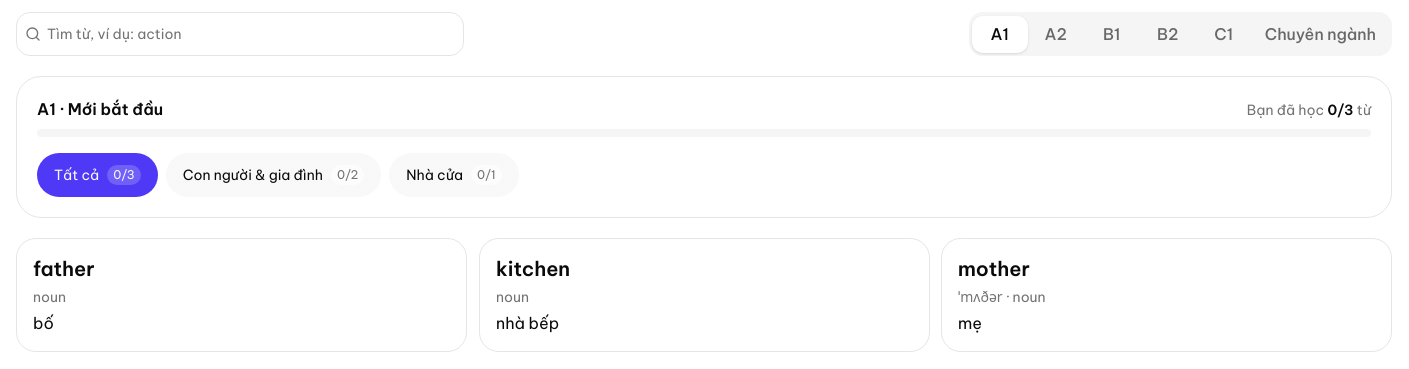
VocabularyBrowser › search (feature 002) › says when nothing matches, and while the words are loading (AC-005, AC-006)
This screenshot has width=1409, height=369.
Expected: the element named "Danh sách từ" is shown, [16,238,1392,352]
Type "zzz" into the dropdown named "Tìm từ vựng ở mọi trình độ".
click(248, 34); type("zzz")  # box [41,18,455,50]
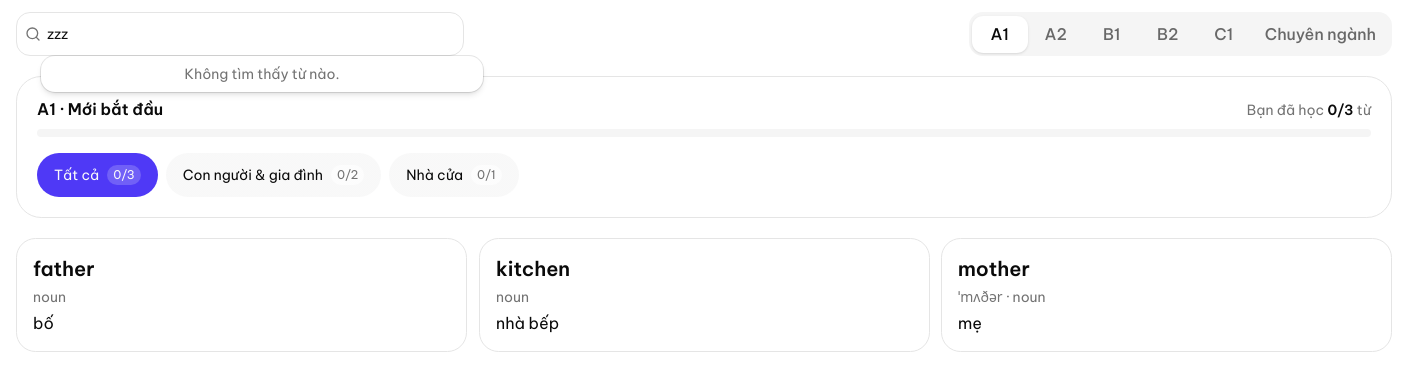
Result: the text "Không tìm thấy từ nào." is shown at [184,65,339,83]
Replace the text in the dropdown named "Tìm từ vựng ở mọi trình độ" with "mo" at (248, 34), box [41,18,455,50]
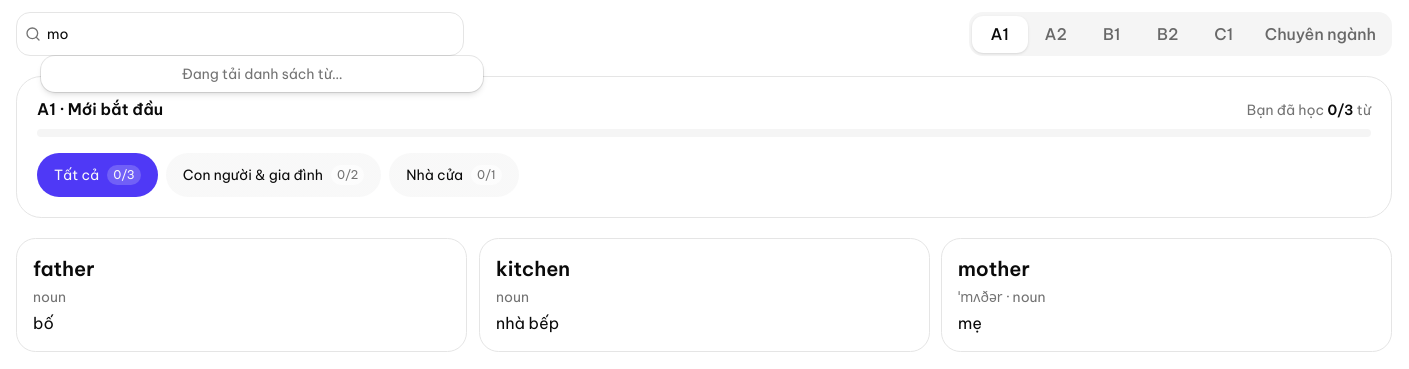
Result: the text "Đang tải danh sách từ…" is shown at [182,65,342,83]
